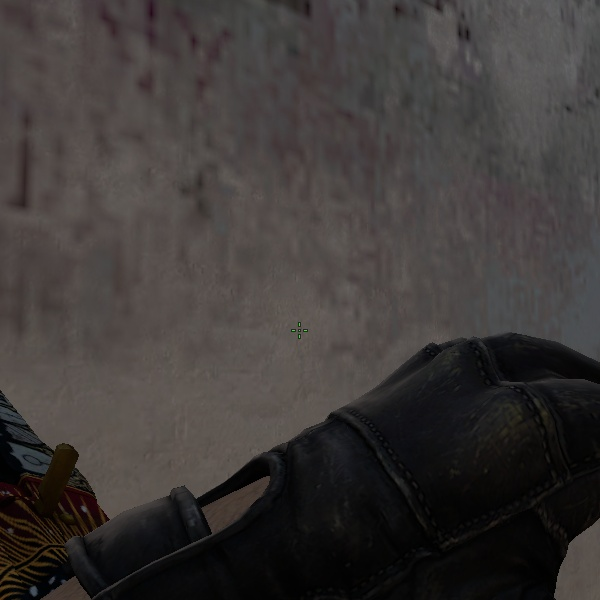t_head: (1, 396, 119, 588)
